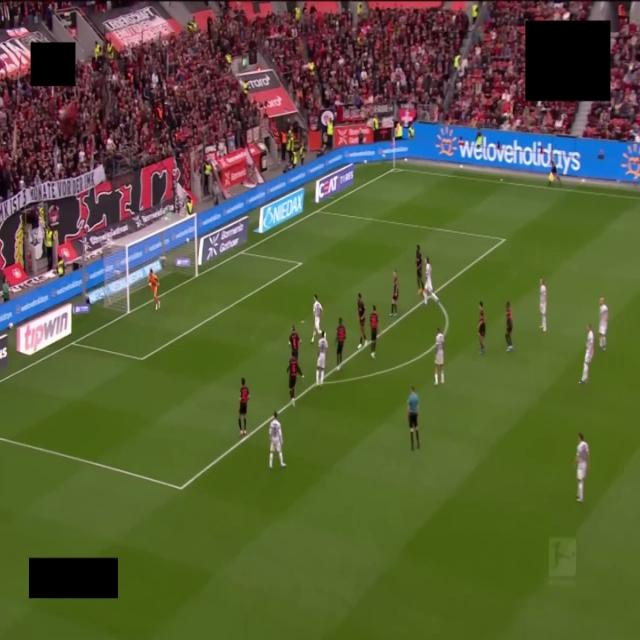player: (575, 432, 590, 502), (269, 412, 285, 468), (579, 324, 593, 383), (287, 357, 303, 406), (424, 257, 439, 306), (238, 378, 249, 437), (316, 332, 328, 384), (311, 295, 322, 343), (435, 328, 444, 385), (358, 294, 367, 349), (599, 297, 608, 350), (336, 318, 345, 369), (148, 270, 159, 310), (370, 305, 378, 358), (416, 246, 424, 295), (478, 301, 485, 354), (390, 271, 398, 316), (505, 302, 512, 351), (289, 326, 299, 358), (540, 279, 546, 331)
referee: (408, 386, 419, 450)
